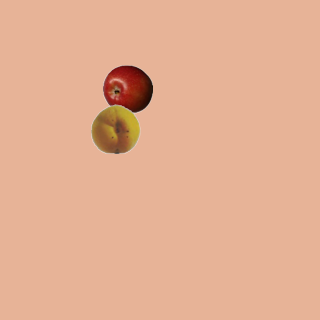Apple Braeburn: (102, 64, 152, 114)
Peach 2: (90, 103, 140, 153)
